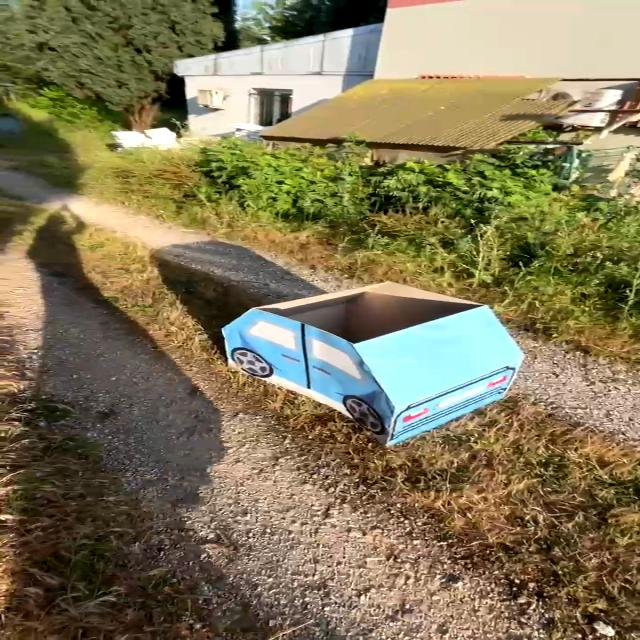blue_car: (177, 265, 559, 471)
